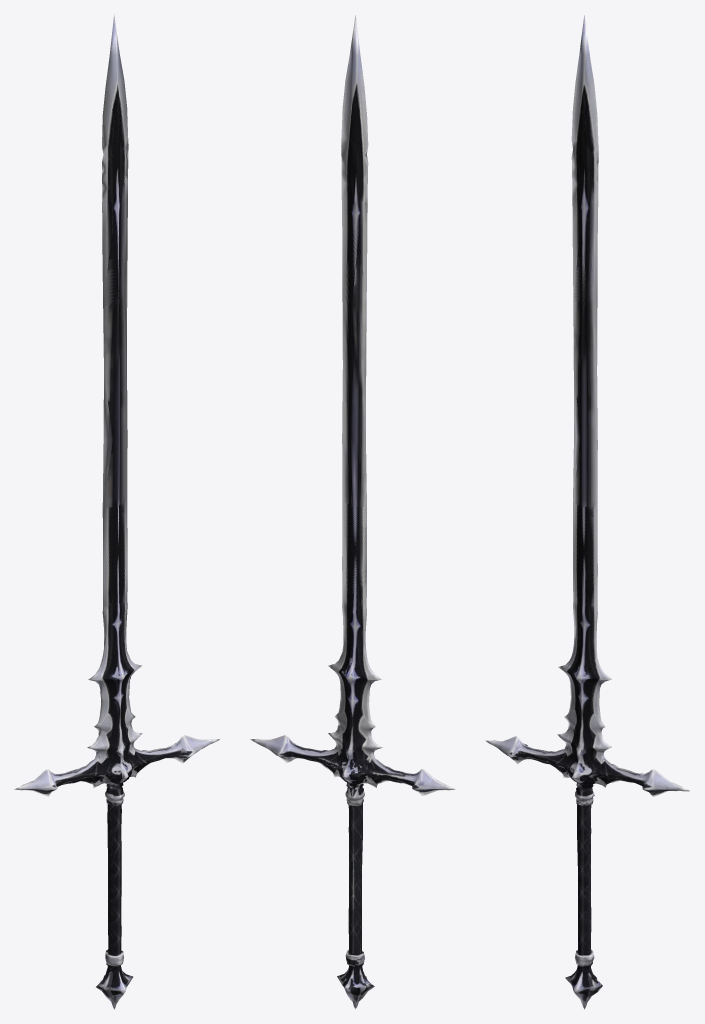
File: King_Sword.fbx
3 renders of one model, left to right at view 1: azimuth 30°, elevation 25°; view 2: azimuth 150°, elevation 25°; view 3: azimuth 330°, elevation 25°, orthographic.
Visible parts, largest first — view 1: Mesh_0; view 2: Mesh_0; view 3: Mesh_0.
Part boxes in pixels (x1=…): Mesh_0: x1=14, y1=14, x2=219, y2=1009; Mesh_0: x1=249, y1=15, x2=455, y2=1009; Mesh_0: x1=485, y1=15, x2=689, y2=1009.
Bounding box in the file's own units: 21.71 × 99.98 × 4.5.
1 material, 1 textured.
